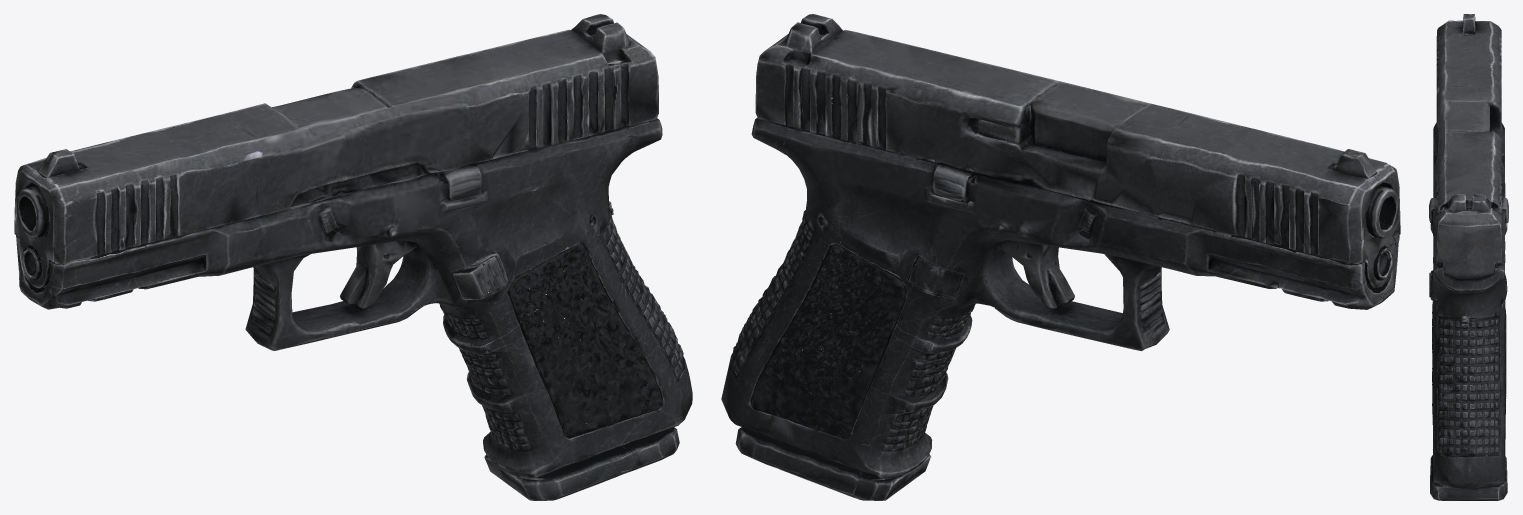
Rendered from glock.glb.
3 views of the same model, side by side, from view 1: azimuth 30°, elevation 25°; view 2: azimuth 150°, elevation 25°; view 3: azimuth 270°, elevation 25° (orthographic). The views are drawn at different scales.
Visible parts, largest first — view 1: Object_4; view 2: Object_4; view 3: Object_4.
Part boxes in pixels (x1=…): Object_4: x1=14, y1=14, x2=692, y2=500; Object_4: x1=721, y1=14, x2=1400, y2=500; Object_4: x1=1429, y1=14, x2=1508, y2=500.
Size of the model in its own units: 1.9 by 1.23 by 0.2948.
Materials: 1 (1 with a texture image).
